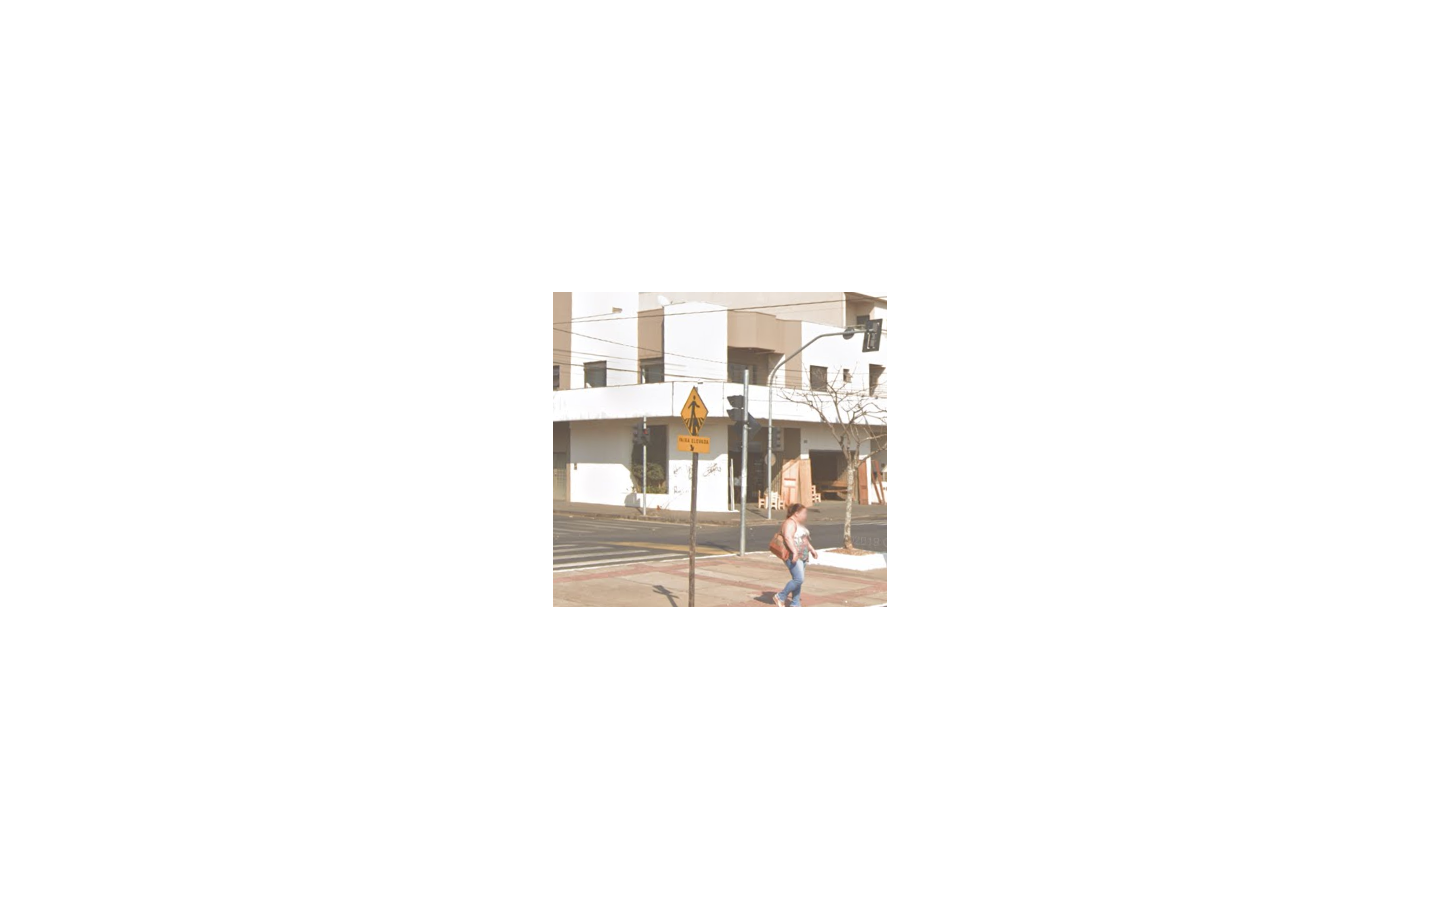telev: (678, 387, 710, 452)
